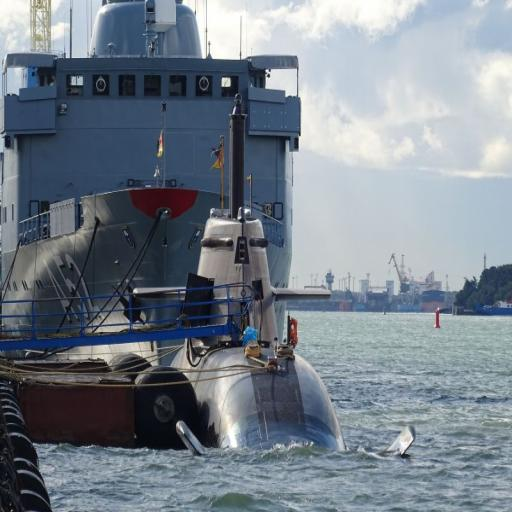submarine: (53, 213, 411, 459)
